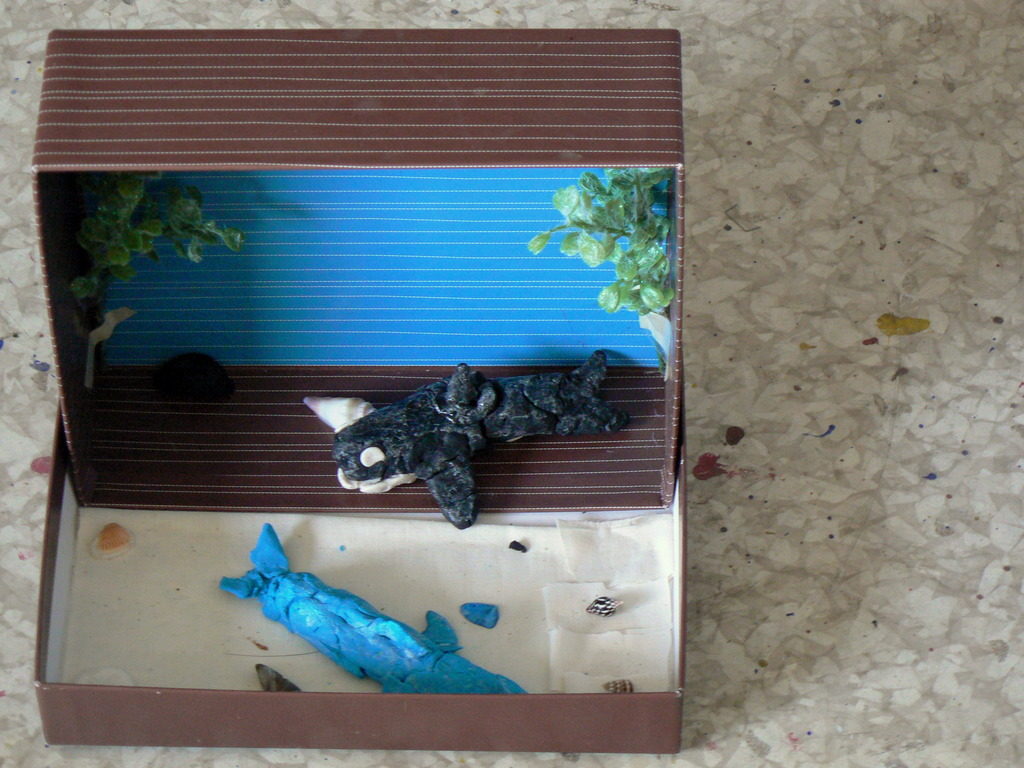Animal: (295, 344, 627, 530), (217, 520, 529, 698)
